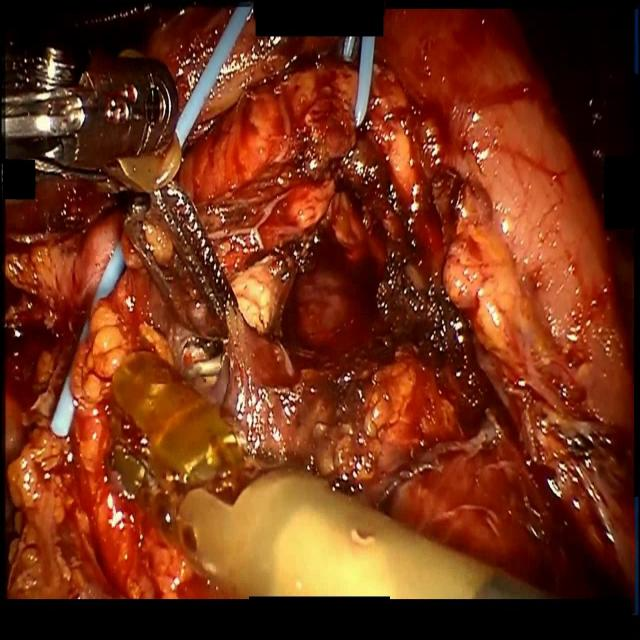surgical-area: (174, 0, 640, 619), (4, 434, 246, 601), (2, 165, 136, 437), (116, 193, 253, 407), (0, 0, 238, 121), (64, 271, 124, 459), (223, 316, 258, 355)
surgical-tool: (0, 3, 258, 335), (170, 469, 565, 601), (106, 342, 271, 550), (50, 240, 125, 437), (354, 36, 374, 132), (342, 33, 354, 68)
